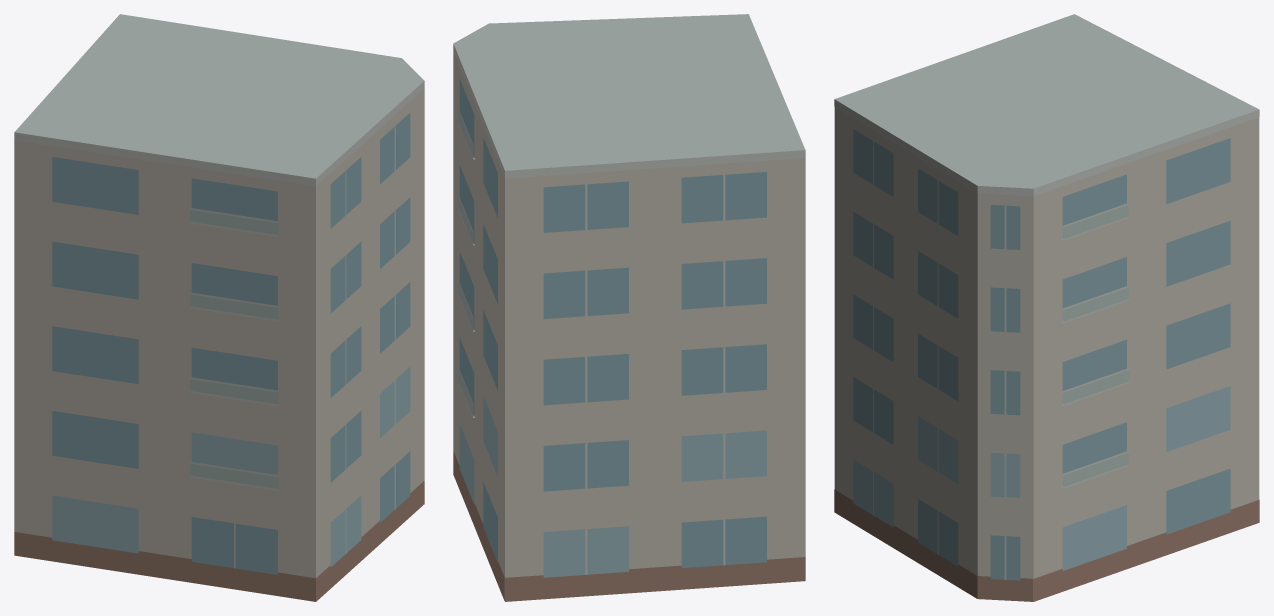
Rendered from survey-upis-32626203.glb.
3 renders of one model, left to right at view 1: azimuth 30°, elevation 25°; view 2: azimuth 150°, elevation 25°; view 3: azimuth 270°, elevation 25°, orthographic. The views are drawn at different scales.
Visible parts, largest first — view 1: survey-upis-32626203.tmp; view 2: survey-upis-32626203.tmp; view 3: survey-upis-32626203.tmp.
Boxes of the visible parts, left/top/right/bottom form: survey-upis-32626203.tmp: left=14, top=14, right=424, bottom=601; survey-upis-32626203.tmp: left=453, top=14, right=805, bottom=601; survey-upis-32626203.tmp: left=834, top=14, right=1259, bottom=601.
Bounding box in the file's own units: 12.16 × 13.4 × 12.5.
